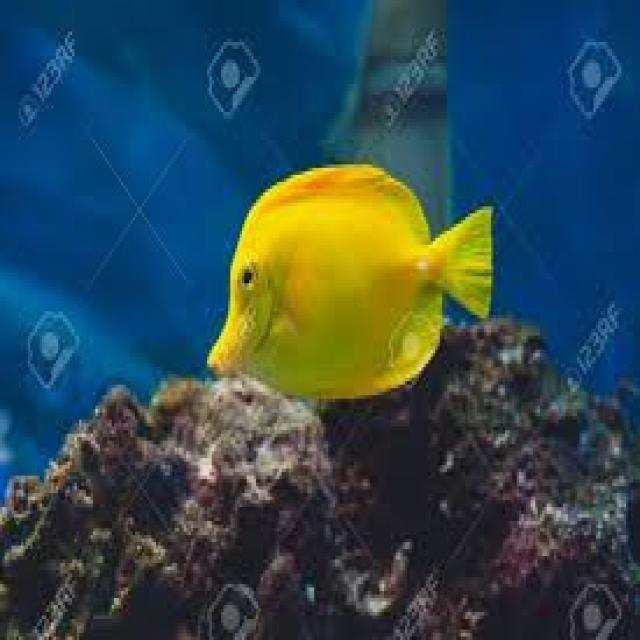TangFish: (208, 162, 494, 401)
